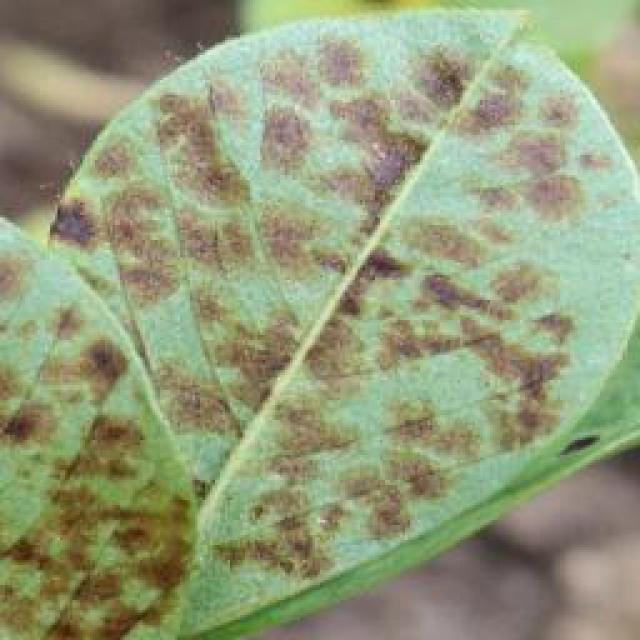Whitefly: (0, 6, 616, 608)
